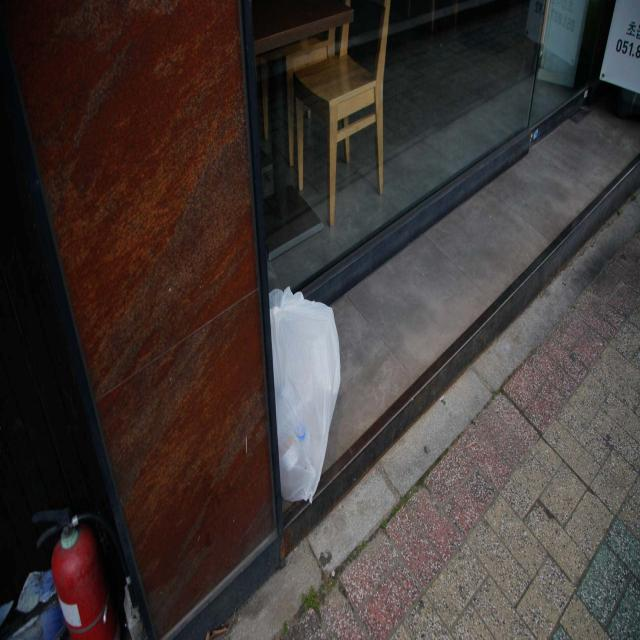garbage bag: (267, 284, 342, 506)
